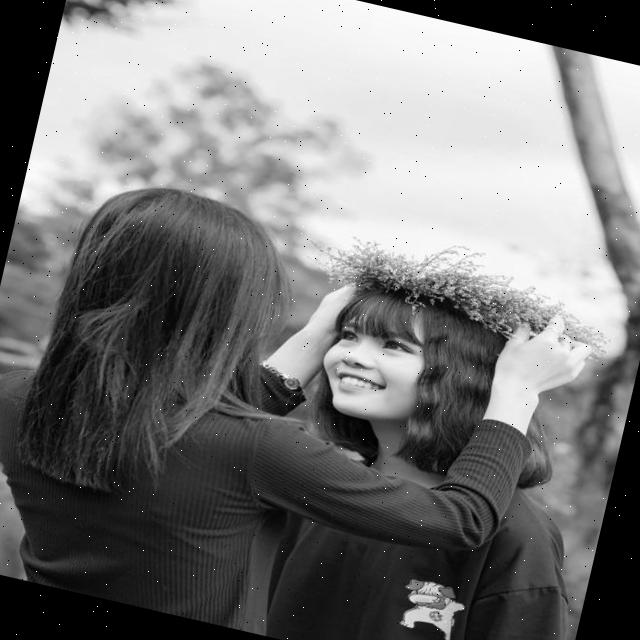Happiness: (310, 293, 438, 433)
